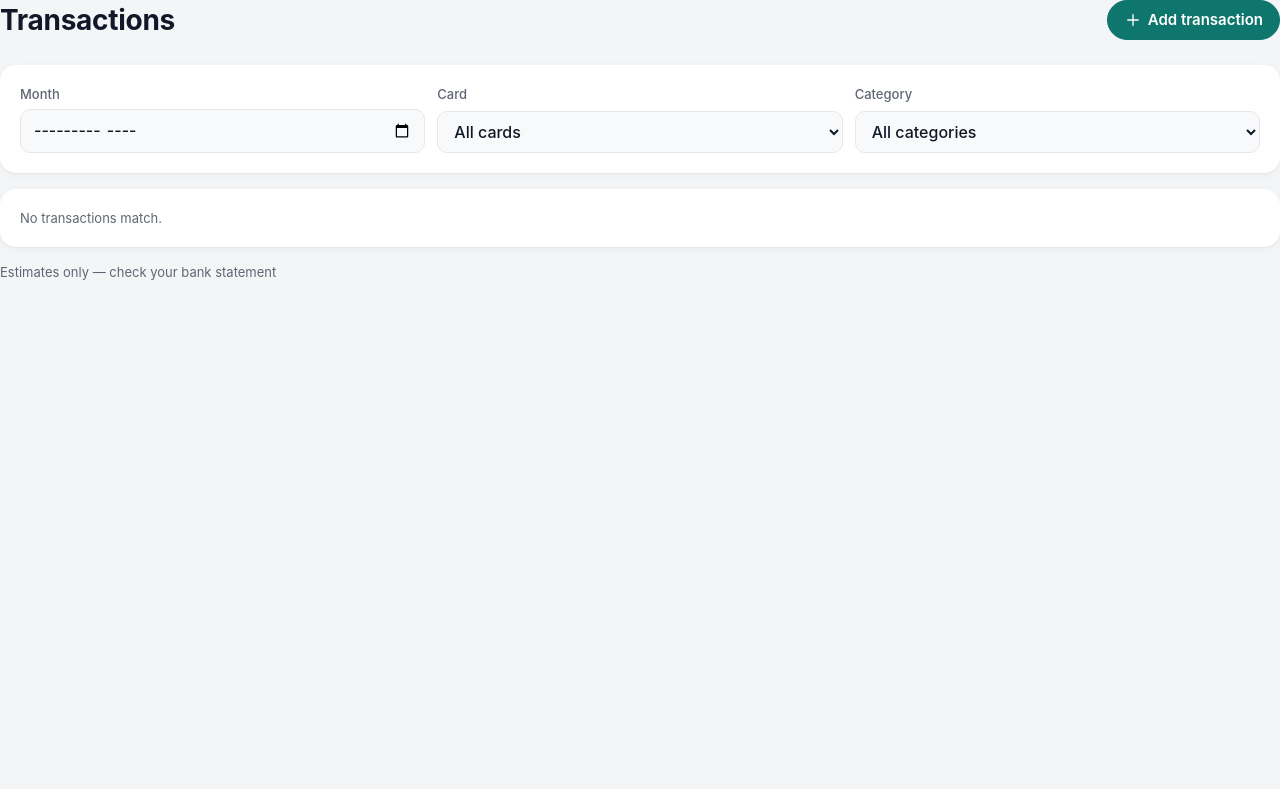
Test case: TransactionsPage › keeps the add form closed until Add transaction is tapped, and closes it after saving
Expected: the field labelled "Amount (RM)" is not shown
Click the button "Add transaction": click(1193, 20) [1107,0,1279,40]
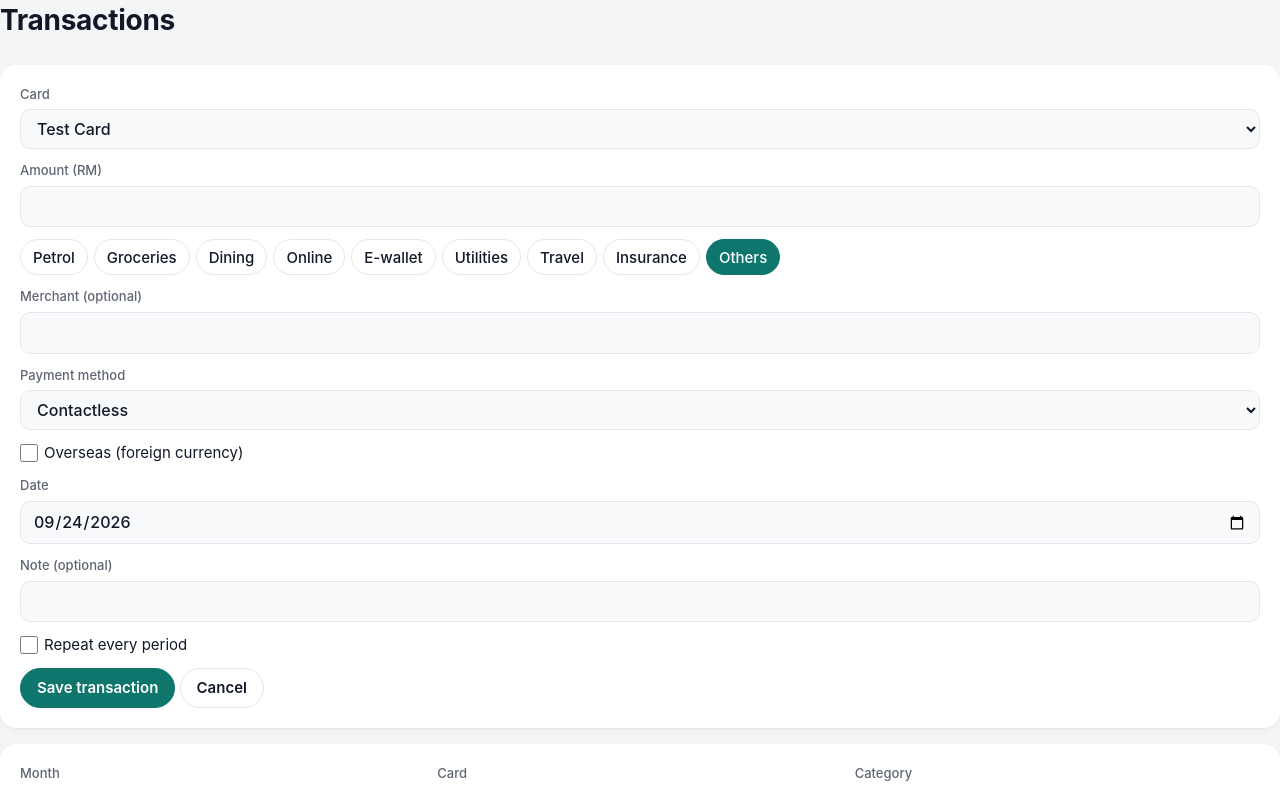
In the field labelled "Amount (RM)": (640, 207) [20,186,1260,228], type "30"
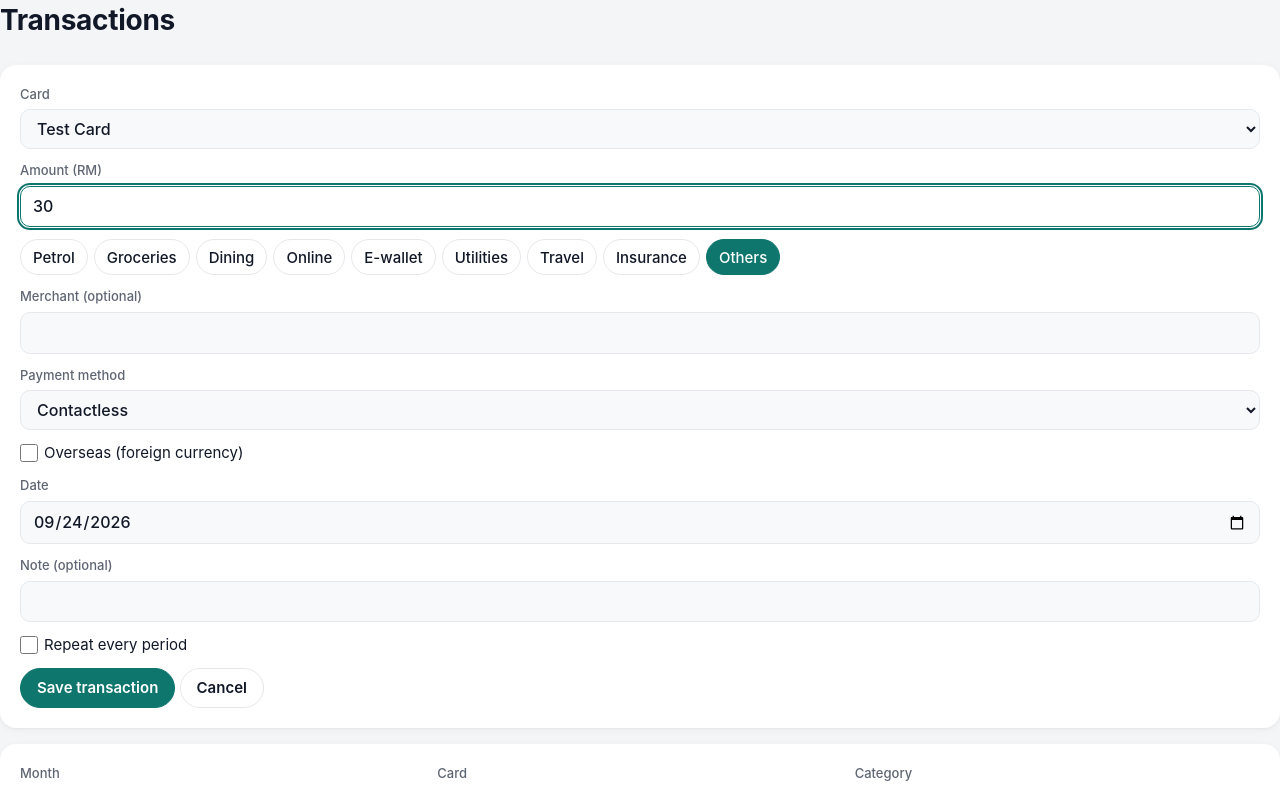
Click the button "Save transaction": click(98, 688) [20,668,175,708]
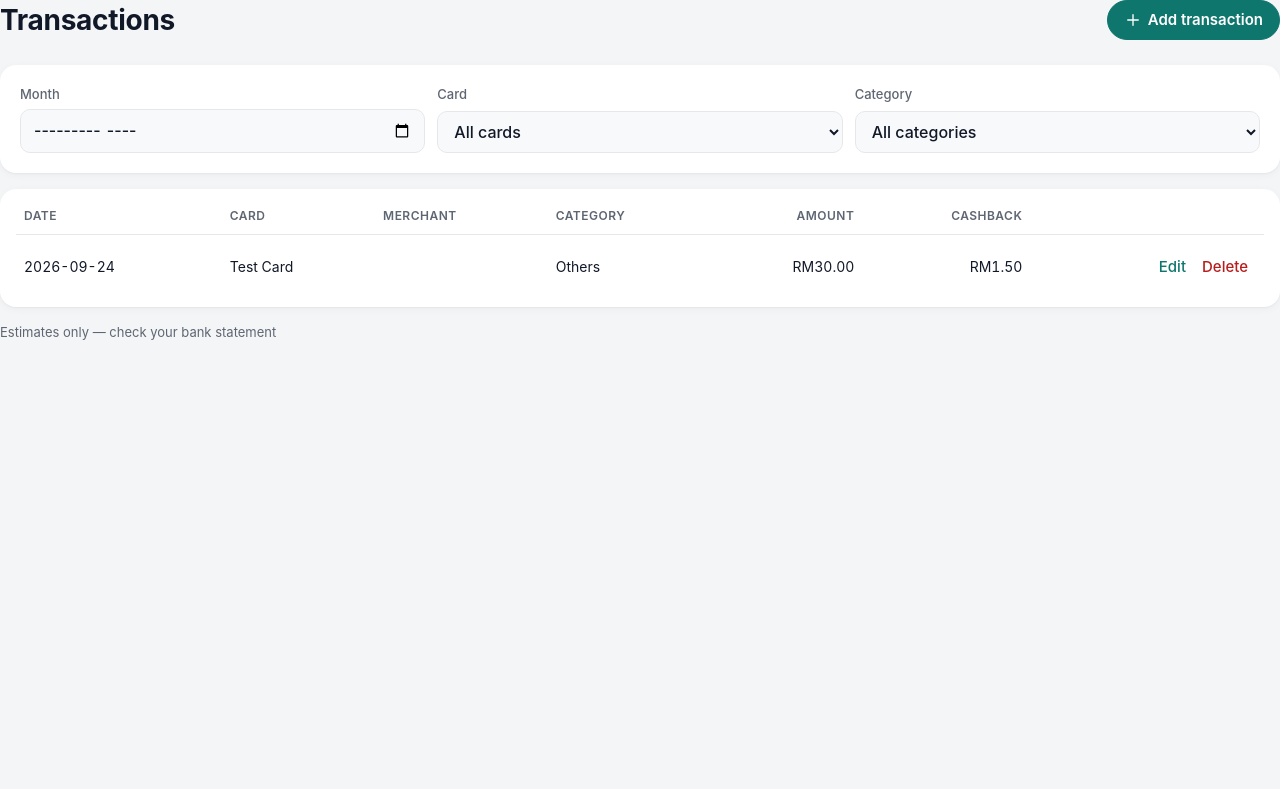
Expected: the text "RM30.00" is shown, [712,234,862,299]
Expected: the label labelled "Amount (RM)" is gone
Expected: the button "Add transaction" is shown, [1107,0,1279,40]
